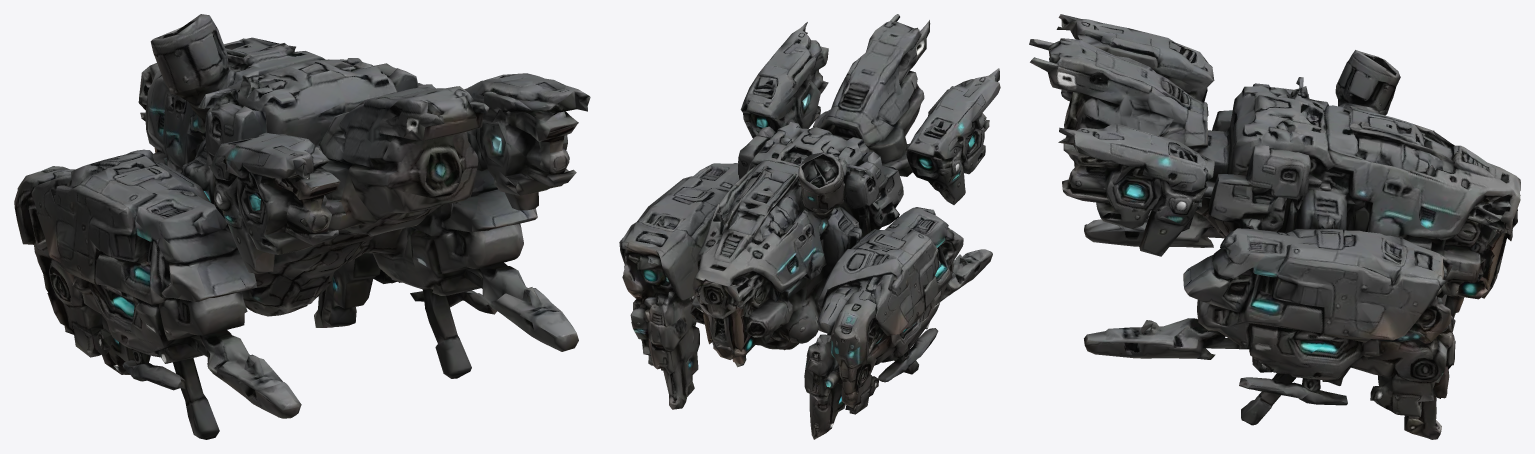
The model's file is enemy_leviathan.glb.
The picture shows the model from 3 angles, left to right: view 1: azimuth 30°, elevation 25°; view 2: azimuth 150°, elevation 25°; view 3: azimuth 270°, elevation 25°; orthographic projection. The views are drawn at different scales.
Visible parts, largest first — view 1: tripo_node_cfb6e565-9bfc-4a97-8dc2-2922c9388e73; view 2: tripo_node_cfb6e565-9bfc-4a97-8dc2-2922c9388e73; view 3: tripo_node_cfb6e565-9bfc-4a97-8dc2-2922c9388e73.
Boxes of the visible parts, x1,y1,x2,y2 form: tripo_node_cfb6e565-9bfc-4a97-8dc2-2922c9388e73: (14,14,590,439); tripo_node_cfb6e565-9bfc-4a97-8dc2-2922c9388e73: (619,14,1000,439); tripo_node_cfb6e565-9bfc-4a97-8dc2-2922c9388e73: (1029,14,1520,439).
Size of the model in its own units: 0.7623 by 0.7804 by 0.9965.
1 material, 1 textured.
